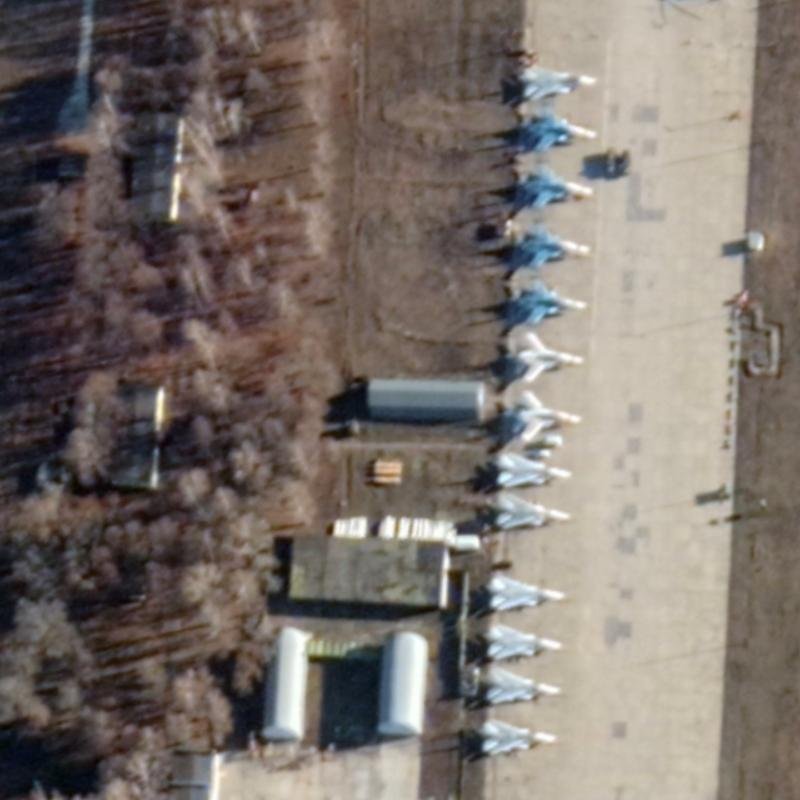A19: (507, 387, 584, 441), (512, 328, 585, 383), (510, 222, 591, 270), (505, 278, 588, 324), (517, 160, 593, 209), (521, 107, 598, 151)
A20: (477, 715, 558, 756), (482, 664, 562, 705), (485, 572, 566, 612), (483, 621, 564, 661), (493, 448, 573, 488), (492, 491, 571, 531), (521, 63, 599, 101)
